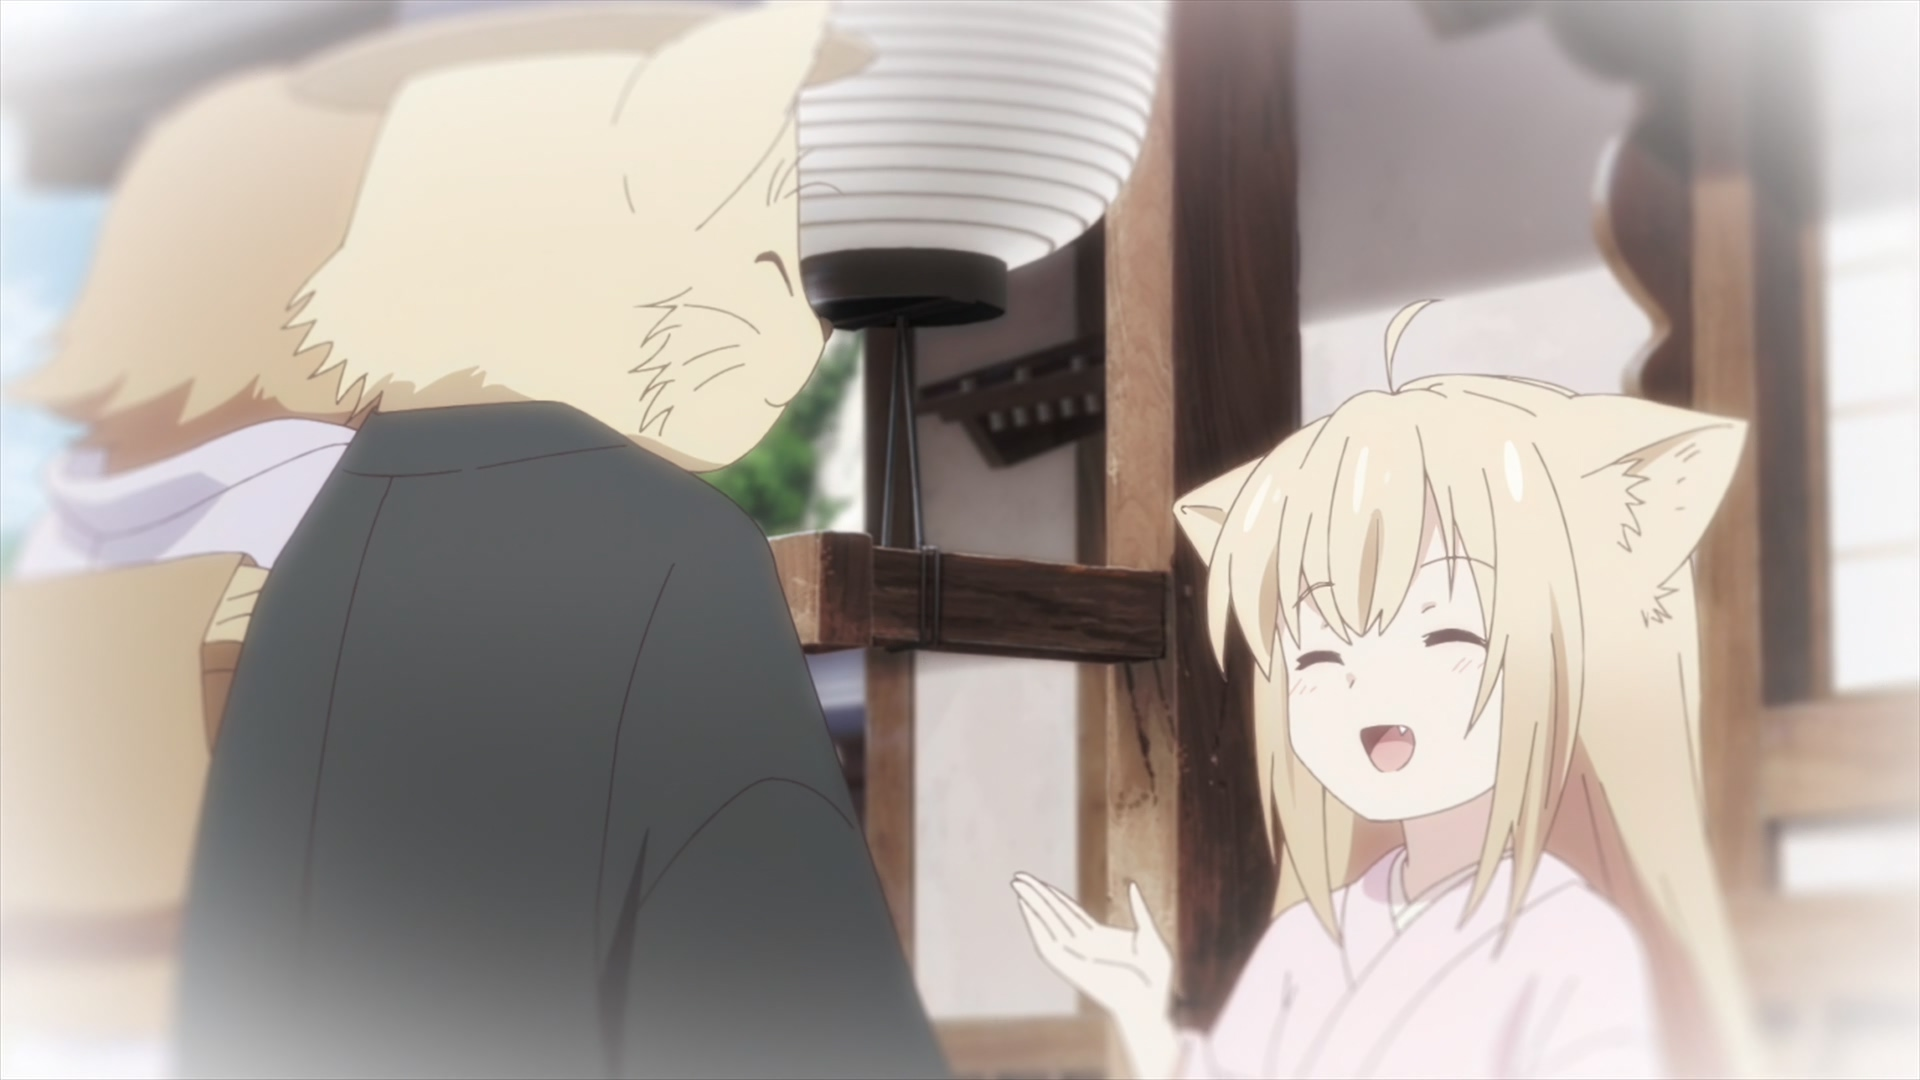其他: (174, 1, 949, 1080), (1, 63, 382, 1080)
柚: (1013, 298, 1779, 1080)
